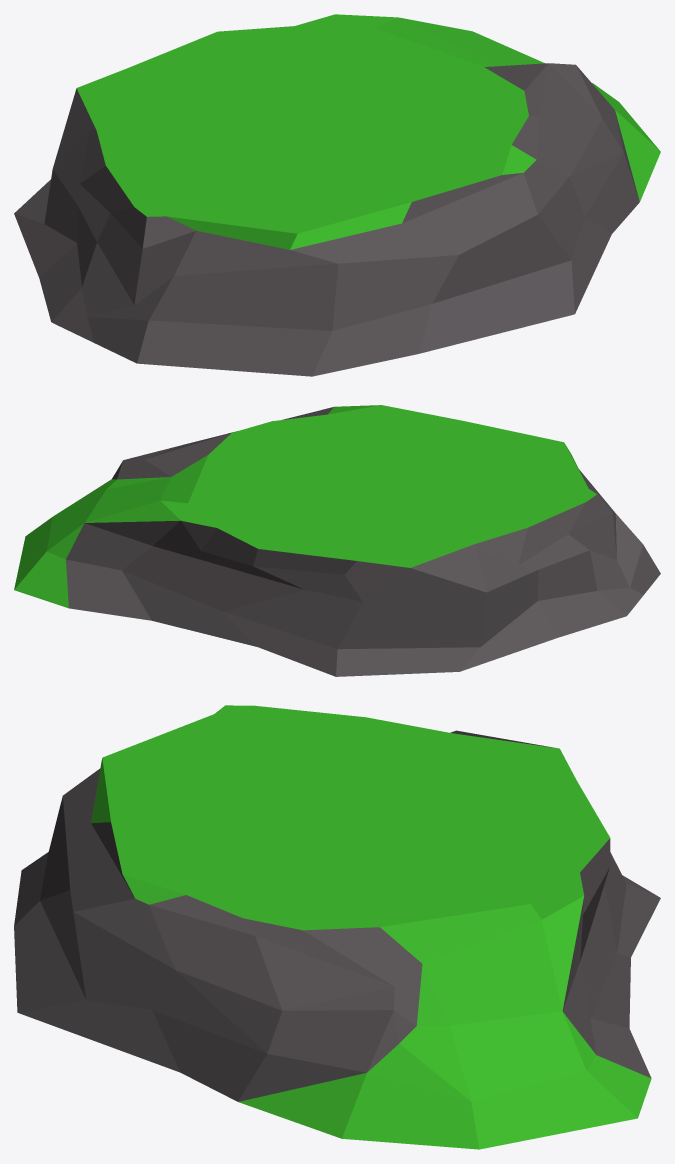
File: platform3.fbx
3 views of the same model, one above another, from view 1: azimuth 30°, elevation 25°; view 2: azimuth 150°, elevation 25°; view 3: azimuth 270°, elevation 25° (orthographic). The views are drawn at different scales.
Parts seen in each view (by area): view 1: Circle.005; view 2: Circle.005; view 3: Circle.005.
Boxes of the visible parts, x1,y1,x2,y2 form: Circle.005: [14, 14, 660, 376]; Circle.005: [14, 405, 660, 676]; Circle.005: [14, 705, 660, 1149].
Bounding box in the file's own units: 4869 × 794 × 3743.
